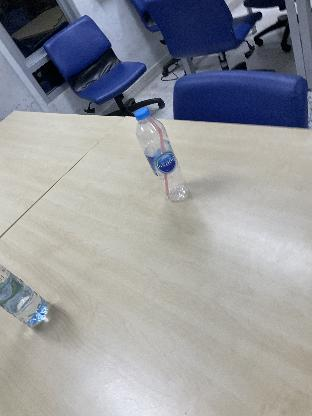Plastic Bottle: (133, 108, 191, 204), (0, 261, 52, 329)
